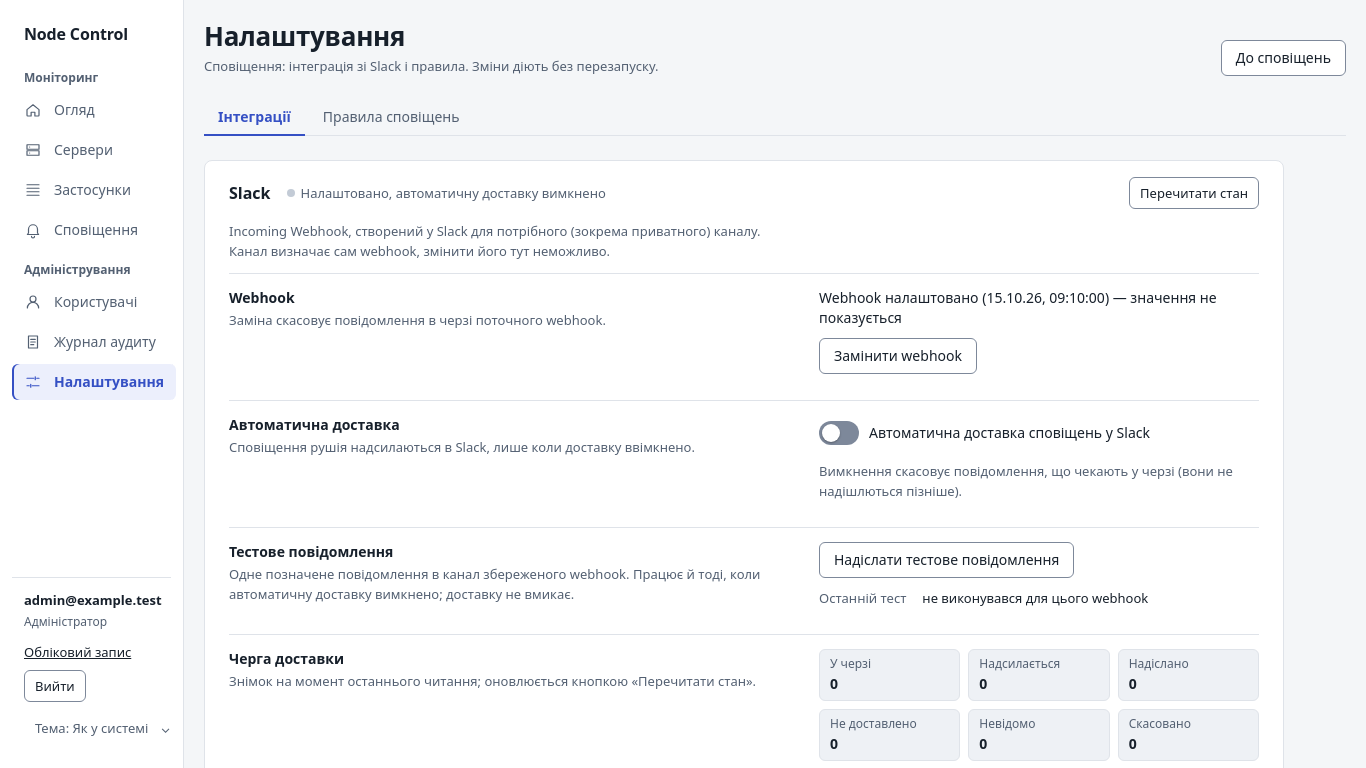
Scenario: Slack integration tab › test: one click → one request for the saved generation; pending blocks a second click; outcome shown
Click the button "Надіслати тестове повідомлення" at x=947, y=560, box 819,542 -> 1074,578
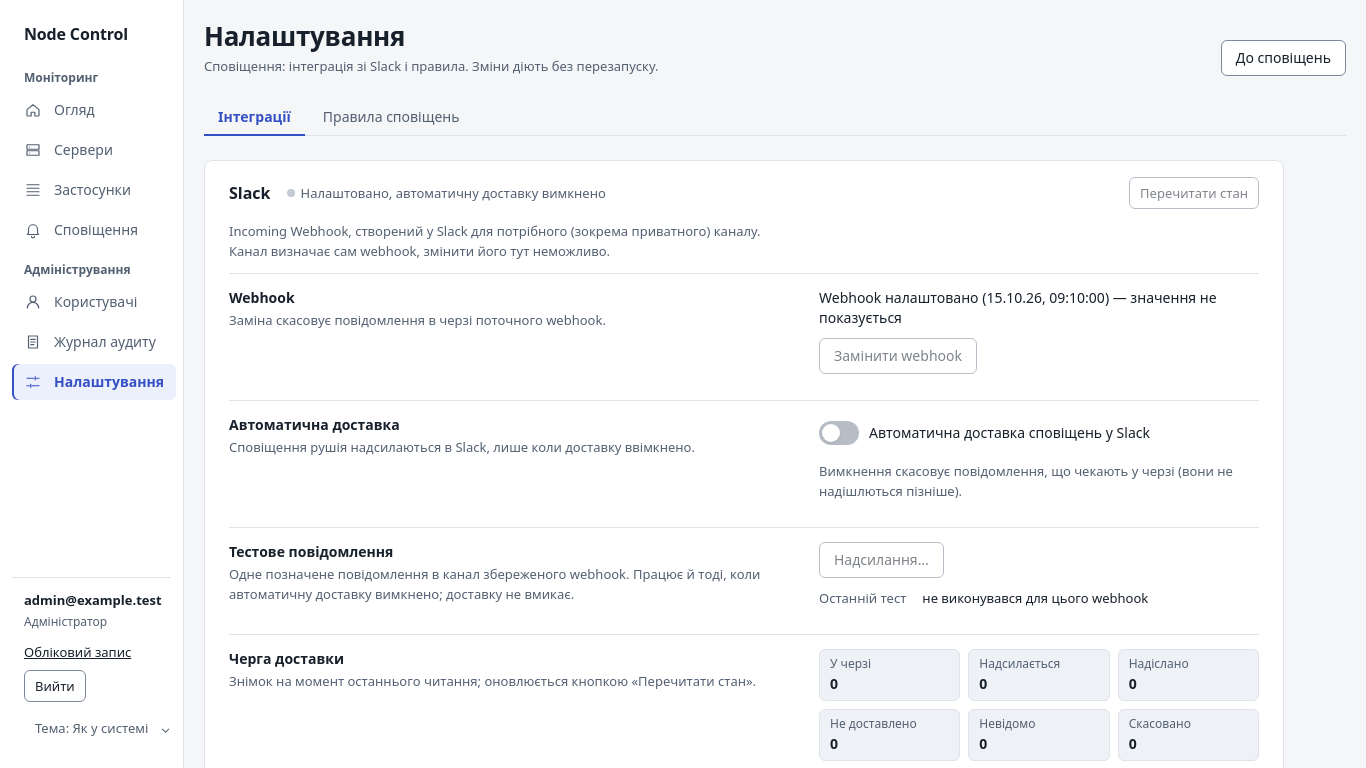
Result: the button "Надсилання…" is disabled
Click the button "Надсилання…" at x=881, y=560, box 819,542 -> 944,578
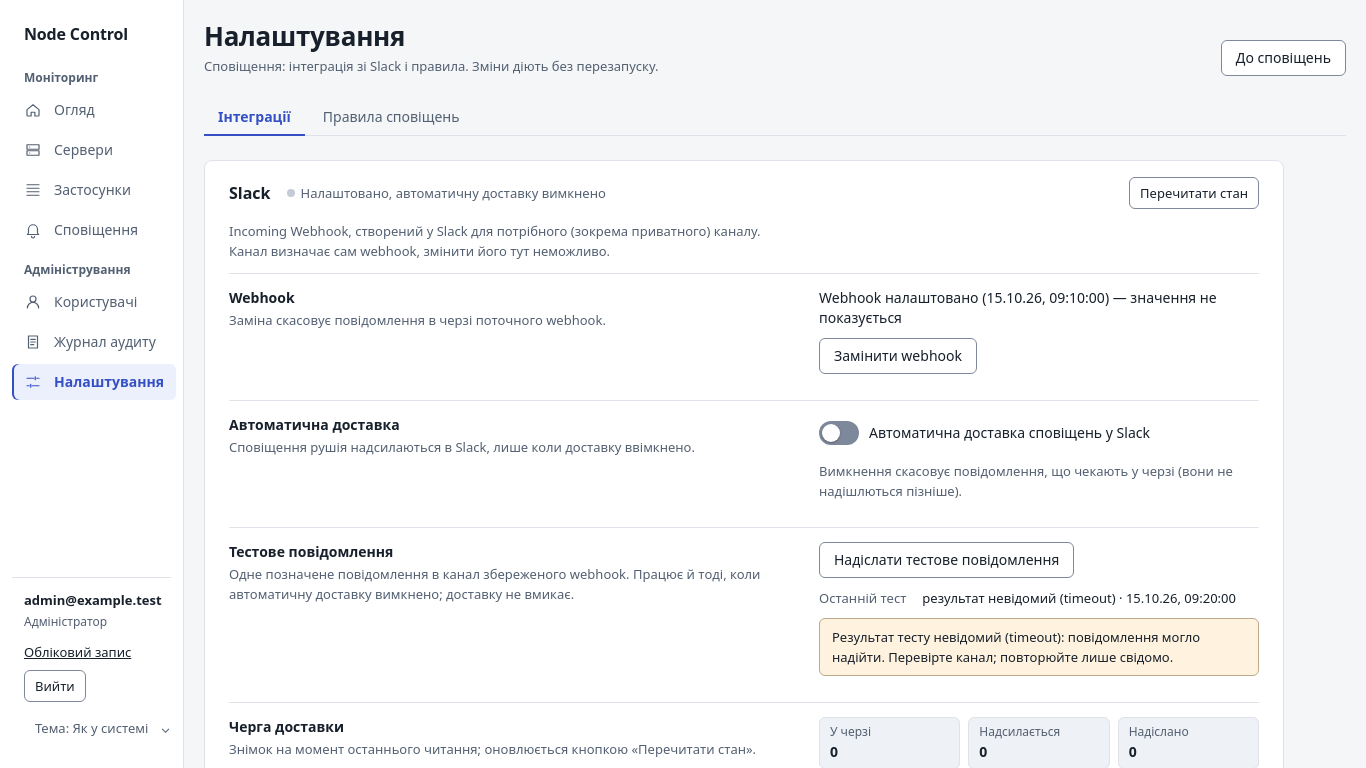
Result: the text "результат невідомий (timeout) · 15.10.26, 09:20:00" is shown at 922,588 -> 1259,608
